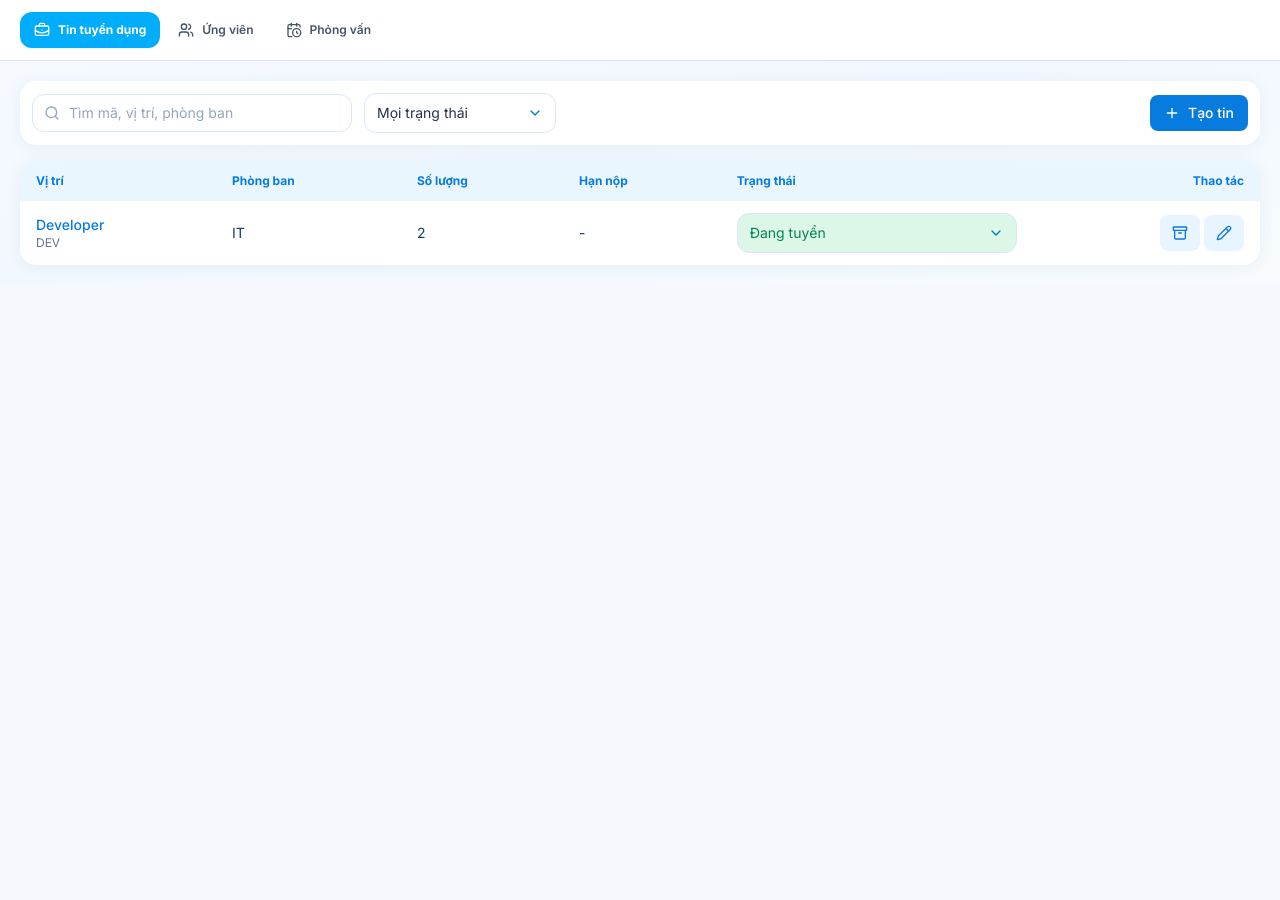
Test: RecruitmentTab › shows the API reason in a popup when changing job status fails
The image size is (1280, 900).
Expected: the button "Developer" is shown, [36,215,104,235]
Click the button with aria-label "Trạng thái DEV": point(788, 232) [737,213,1017,253]
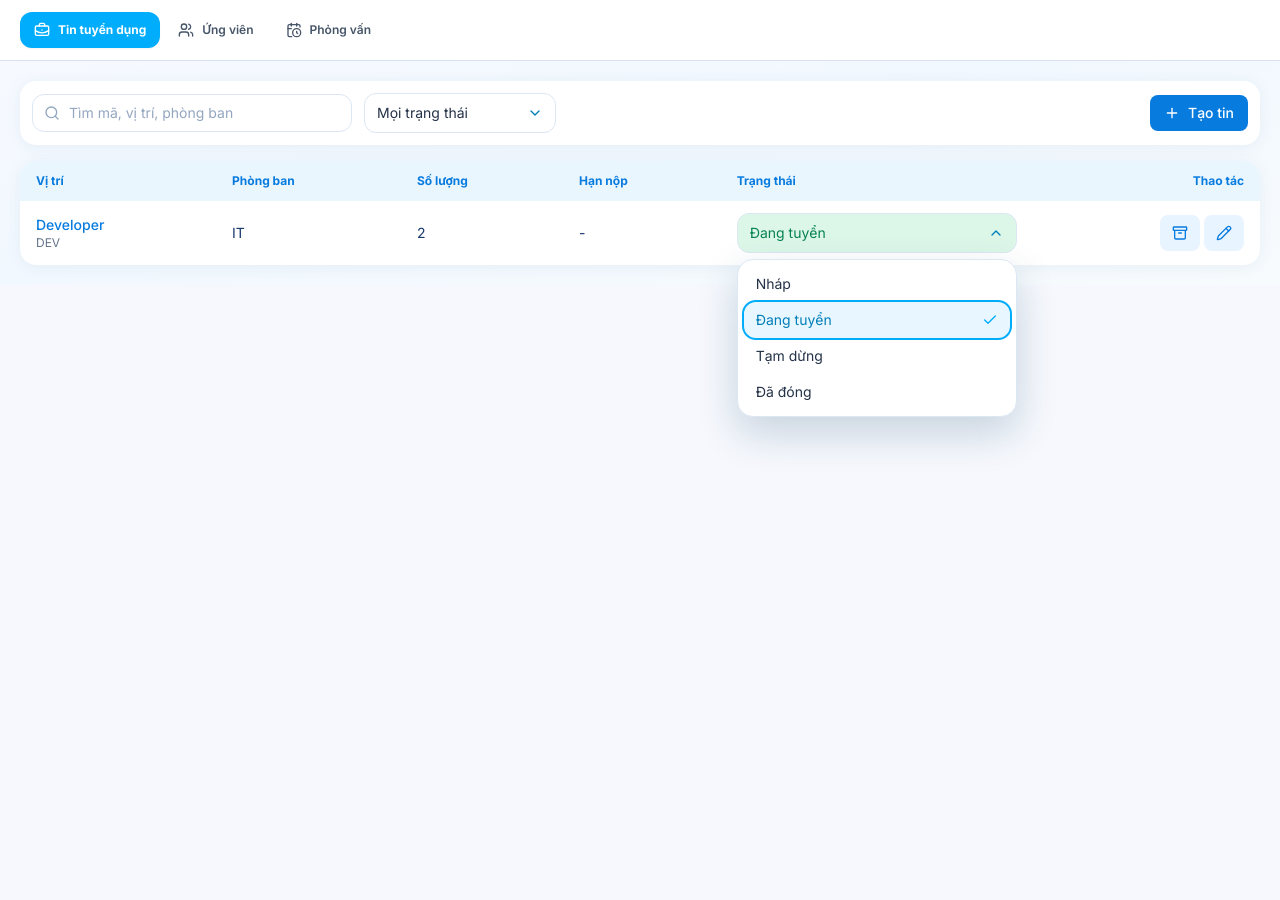
Click the option "Nháp": point(773, 284) [744,266,1010,302]
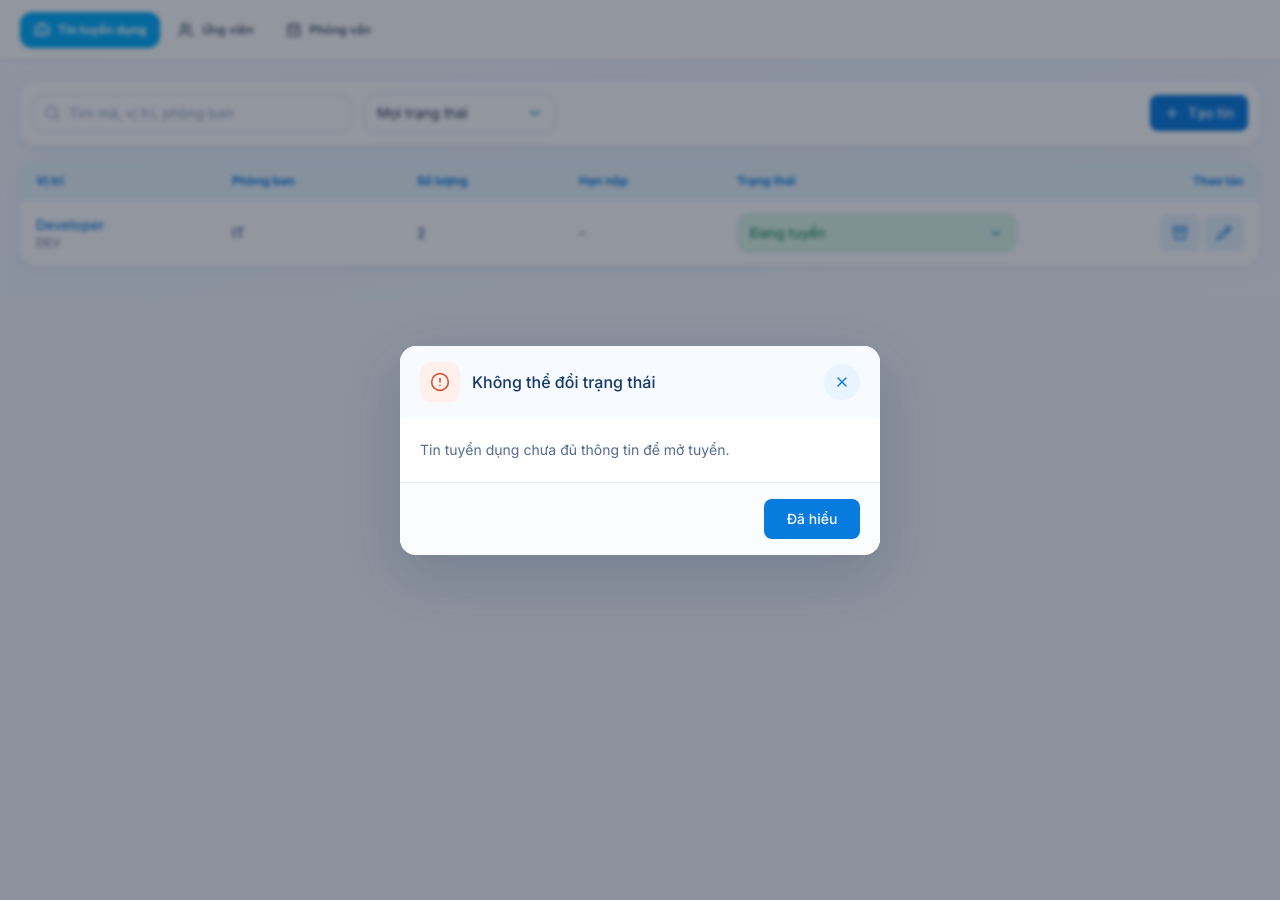
Now the text "Tin tuyển dụng chưa đủ thông tin để mở tuyển." is shown, box [420,440,730,458]
Click the button "Đã hiểu": point(812, 518) [764,498,860,538]
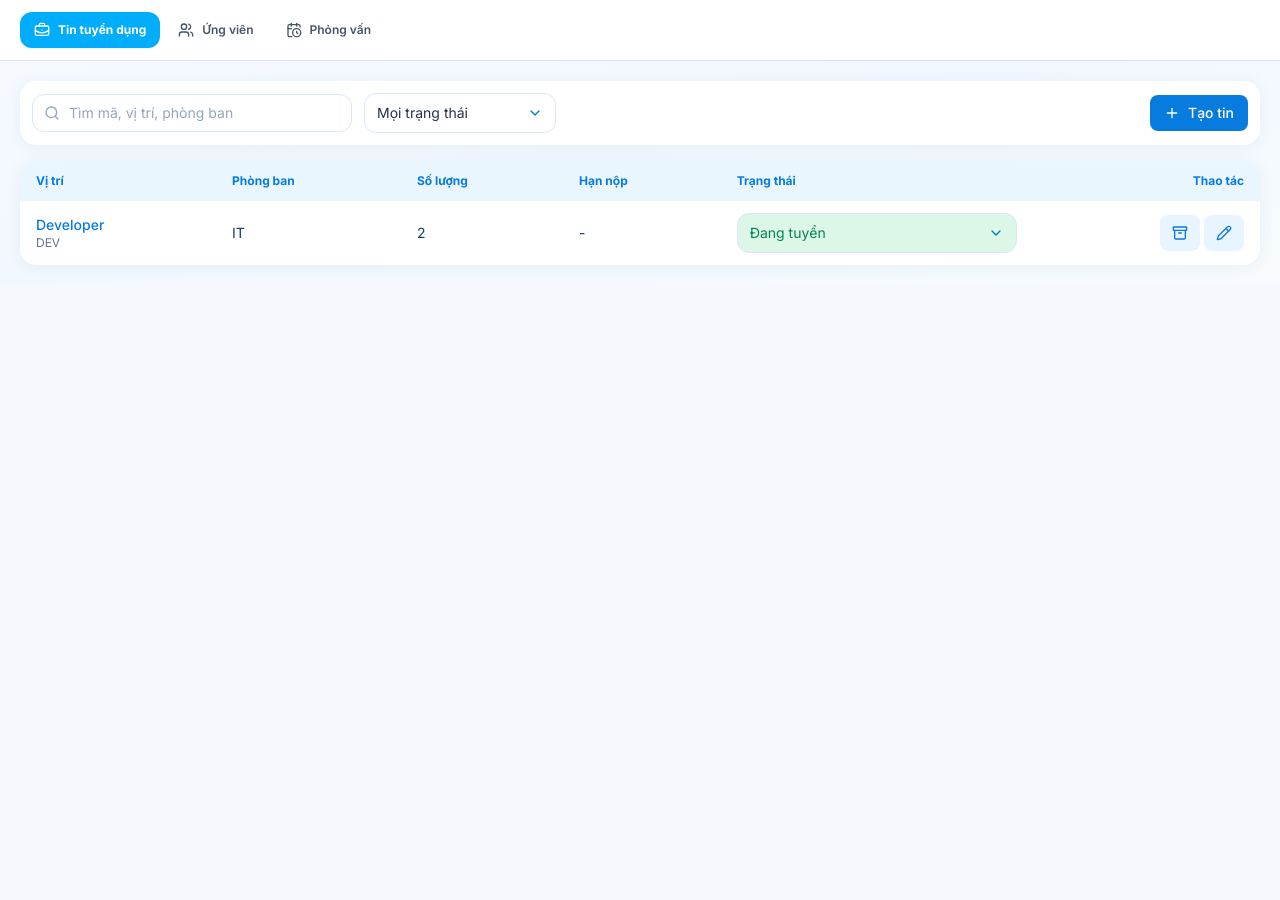
Now the dialog is gone
